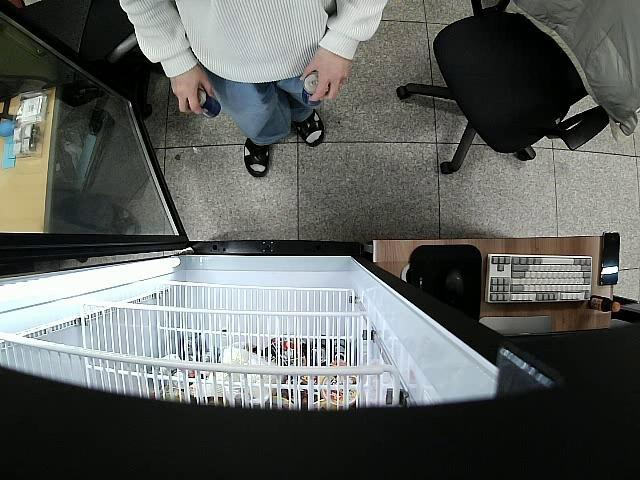16_hot6: (301, 73, 328, 108), (200, 87, 222, 122)
